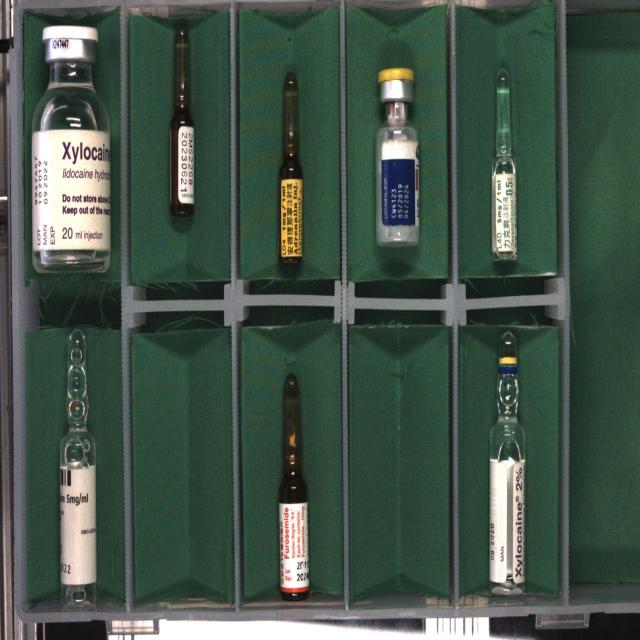Vials: (32, 26, 111, 272), (376, 68, 419, 246)
